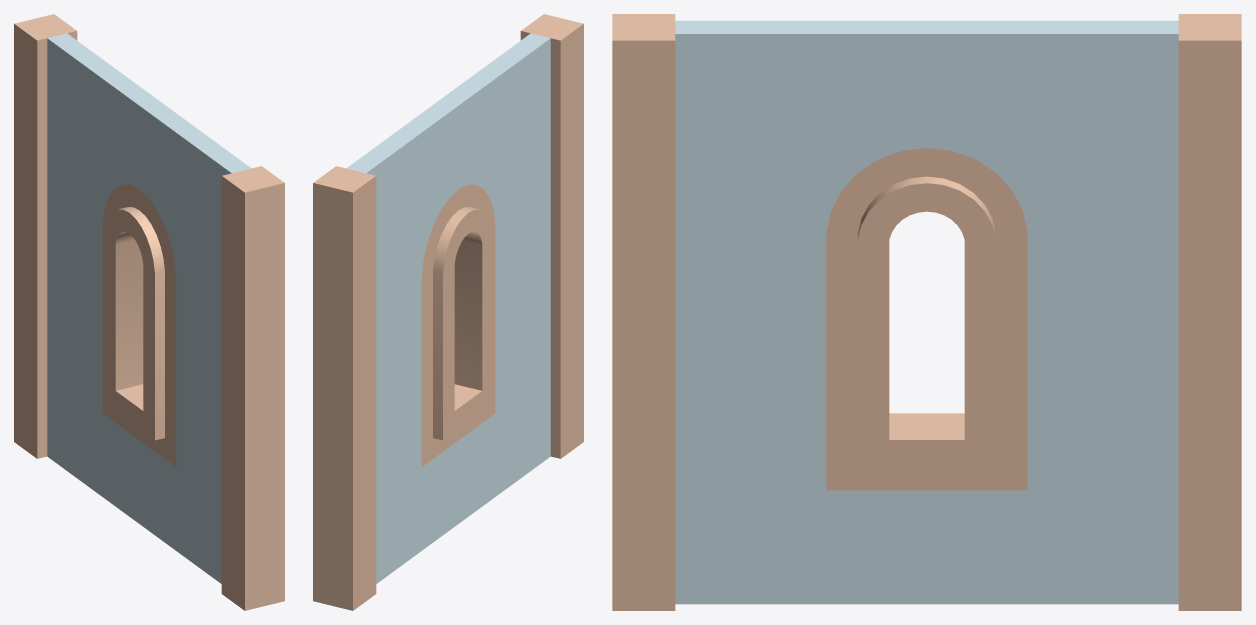
The picture shows the model from 3 angles, left to right: view 1: azimuth 30°, elevation 25°; view 2: azimuth 150°, elevation 25°; view 3: azimuth 270°, elevation 25°; orthographic projection. The views are drawn at different scales.
Parts seen in each view (by area): view 1: wallWindowRound; view 2: wallWindowRound; view 3: wallWindowRound.
Boxes of the visible parts, <box> form: wallWindowRound: <box>14,14,284,610</box>; wallWindowRound: <box>313,14,583,610</box>; wallWindowRound: <box>612,14,1241,610</box>.
Bounding box in the file's own units: 0.1 × 1 × 1.
